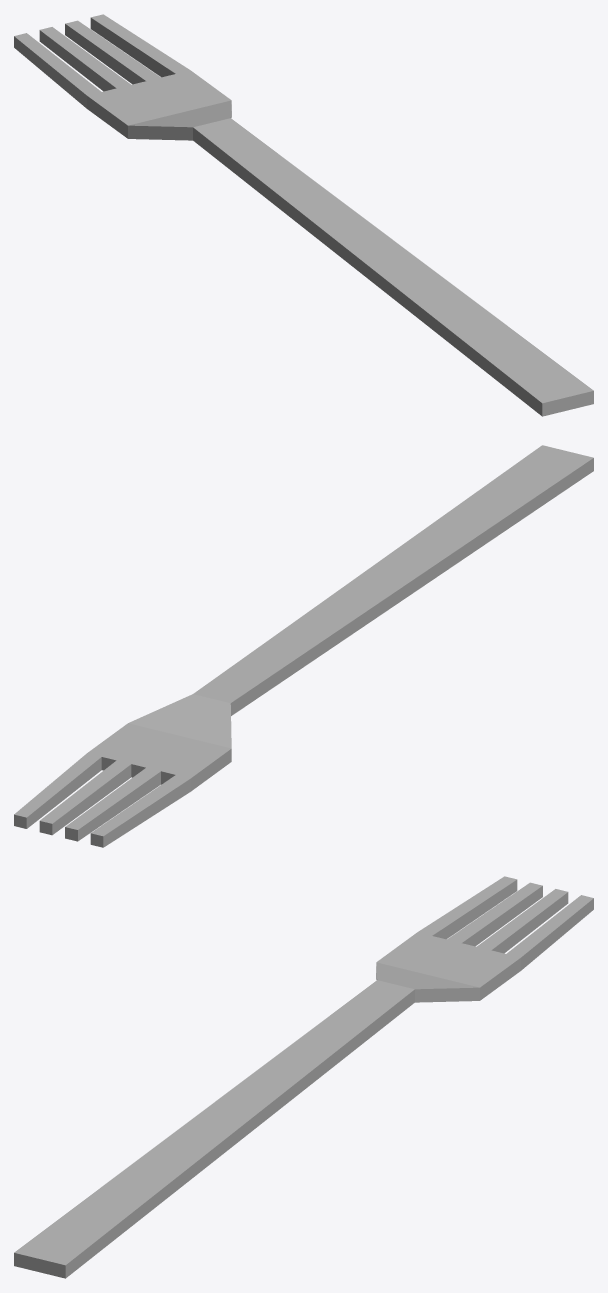
Rendered from Spoon_03.fbx.
3 views of the same model, one above another, from view 1: azimuth 30°, elevation 25°; view 2: azimuth 150°, elevation 25°; view 3: azimuth 330°, elevation 25° (orthographic).
Visible parts, largest first — view 1: Spoon_03; view 2: Spoon_03; view 3: Spoon_03.
Boxes of the visible parts, x1,y1,x2,y2 form: Spoon_03: (14, 14, 593, 416); Spoon_03: (14, 445, 593, 847); Spoon_03: (14, 876, 593, 1278).
Bounding box in the file's own units: 2.27 × 0.5653 × 19.28.
